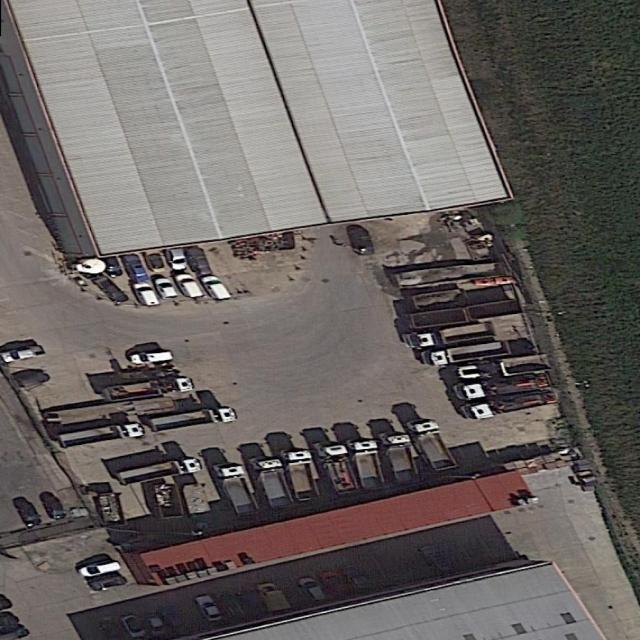large-vehicle: (461, 386, 563, 422), (451, 370, 554, 402), (405, 418, 460, 475), (401, 320, 499, 351), (454, 352, 555, 381), (100, 376, 199, 404), (418, 339, 513, 368), (55, 420, 146, 450), (116, 456, 204, 487), (148, 406, 240, 435), (314, 443, 360, 498), (248, 458, 295, 511), (213, 462, 260, 515), (378, 432, 423, 487), (280, 448, 322, 502), (345, 440, 388, 492), (254, 580, 294, 614)
small-vehicle: (415, 544, 457, 574), (92, 275, 131, 305), (158, 607, 194, 638), (339, 563, 376, 593), (317, 569, 355, 598), (13, 500, 47, 528), (295, 576, 329, 604), (199, 274, 235, 300), (120, 252, 150, 283), (194, 595, 226, 623), (117, 613, 150, 639), (186, 246, 213, 277), (1, 345, 47, 363), (79, 560, 122, 579), (349, 228, 377, 257), (131, 281, 162, 307), (174, 273, 205, 298), (88, 574, 128, 593), (140, 611, 170, 636), (143, 247, 170, 274), (42, 496, 71, 521), (131, 350, 175, 366), (154, 277, 180, 300), (102, 254, 127, 277), (166, 248, 190, 271)
